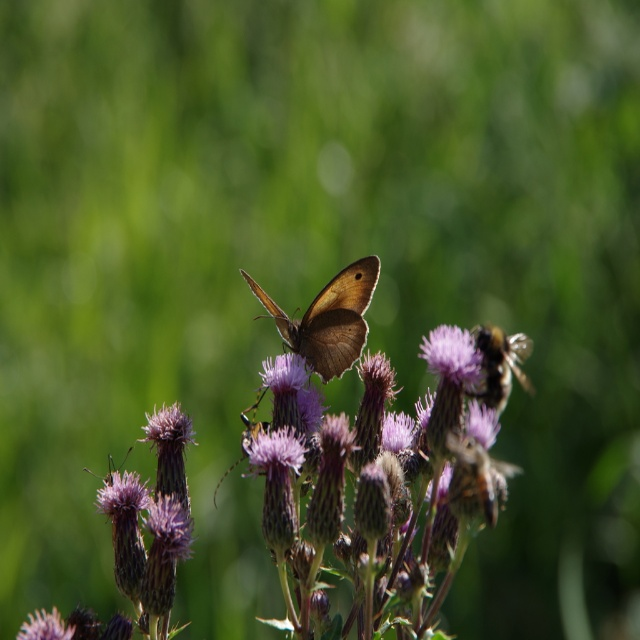Butterfly: (238, 258, 374, 401)
